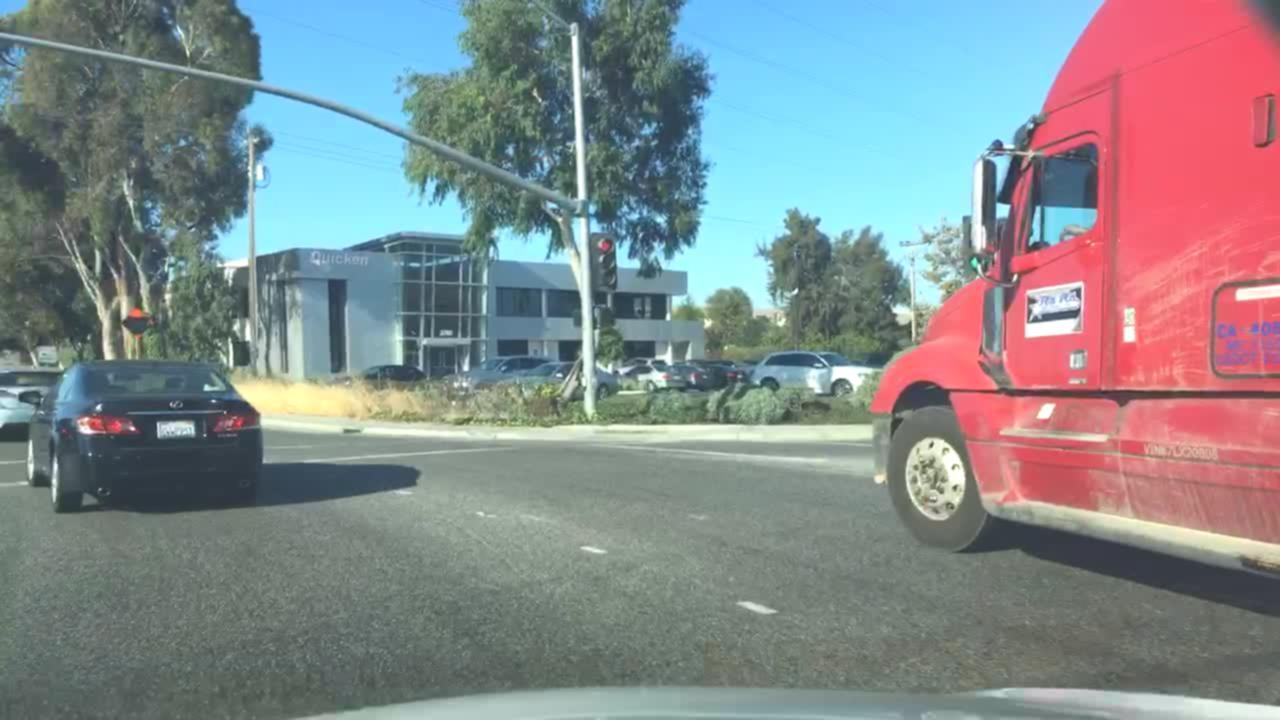lexus: (162, 393, 187, 417)
